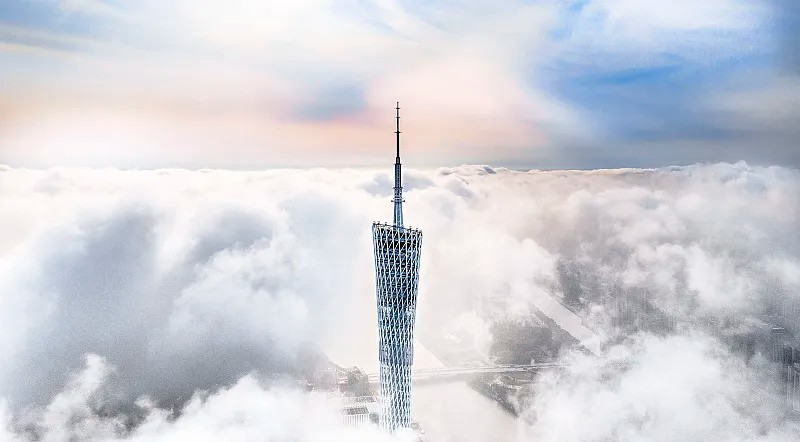Canton: (372, 97, 418, 431)
